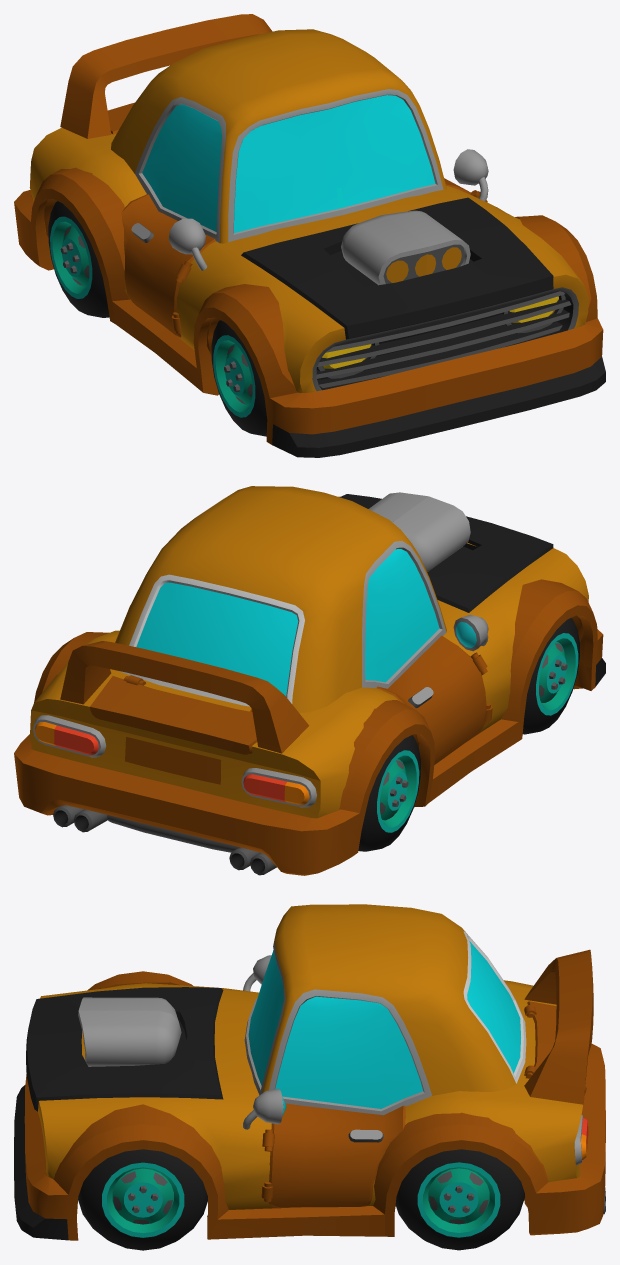
Rendered from VEH4-B.fbx.
3 views of the same model, one above another, from view 1: azimuth 30°, elevation 25°; view 2: azimuth 150°, elevation 25°; view 3: azimuth 270°, elevation 25° (orthographic).
Visible parts, largest first — view 1: VEH4_B, V4B_Wheel_BR, V4B_Wheel_FR; view 2: VEH4_B, V4B_Wheel_BR, V4B_Wheel_FR; view 3: VEH4_B, V4B_Wheel_FL, V4B_Wheel_BL.
Part boxes in pixels (<box>): VEH4_B: <box>14,14,605,457</box>; V4B_Wheel_BR: <box>48,201,109,317</box>; V4B_Wheel_FR: <box>211,320,267,436</box>; VEH4_B: <box>14,486,605,875</box>; V4B_Wheel_BR: <box>358,735,420,851</box>; V4B_Wheel_FR: <box>522,618,579,734</box>; VEH4_B: <box>14,904,605,1240</box>; V4B_Wheel_FL: <box>78,1149,207,1250</box>; V4B_Wheel_BL: <box>395,1149,524,1250</box>.
Size of the model in its own units: 262 by 189 by 401.
1 material, 1 textured.
